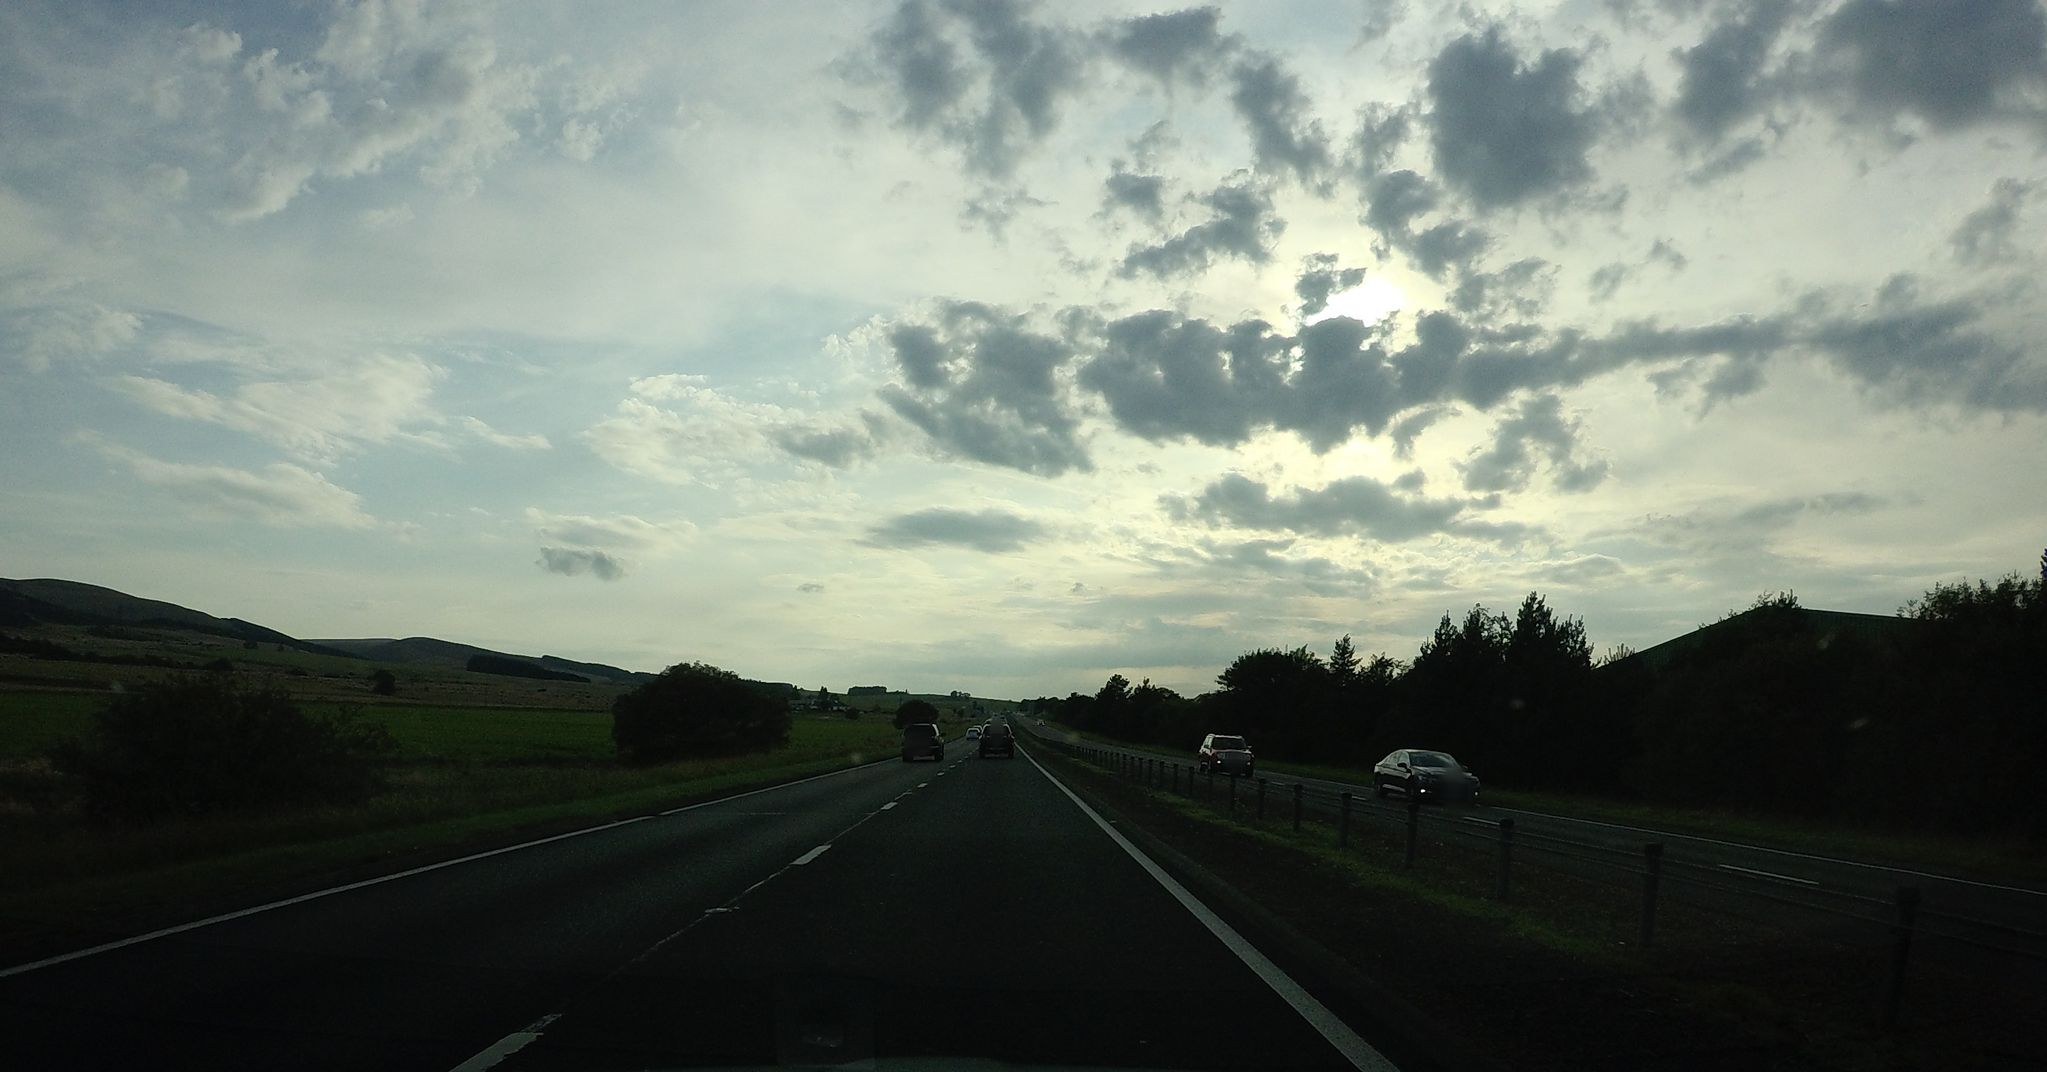car: (1373, 749, 1480, 804), (1198, 734, 1255, 777), (900, 723, 945, 761), (976, 721, 1015, 758)
